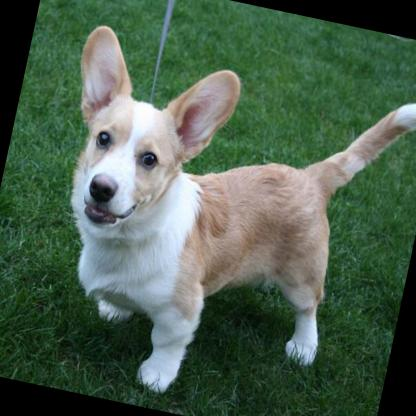Cardigan: (9, 15, 416, 416)
